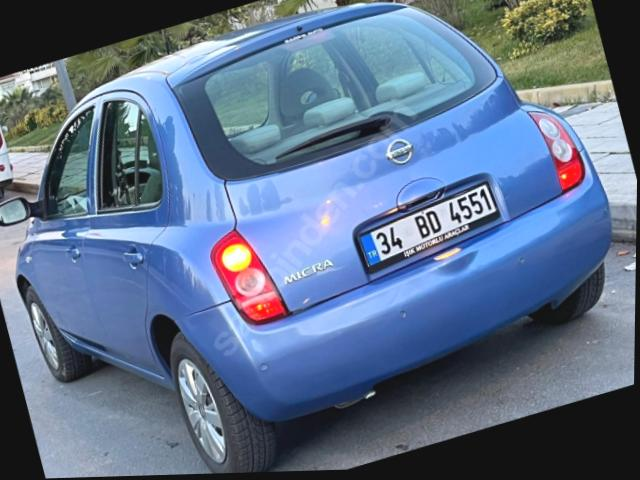plaka: (358, 181, 500, 272)
